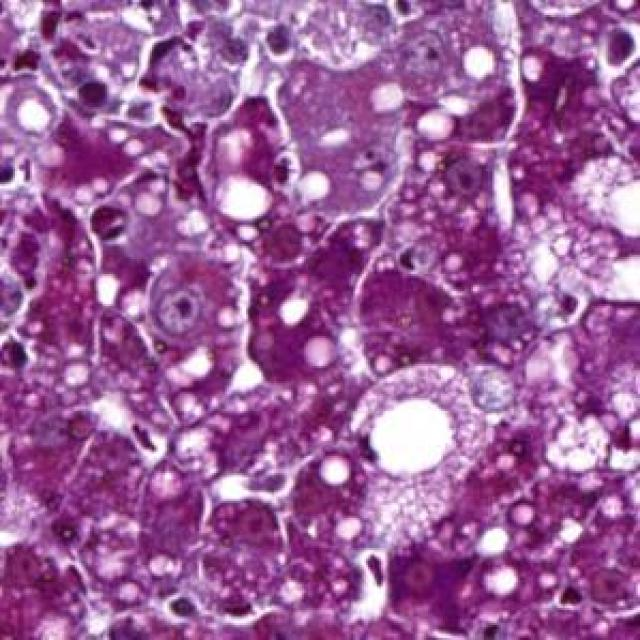ballooning: (344, 356, 498, 540)
